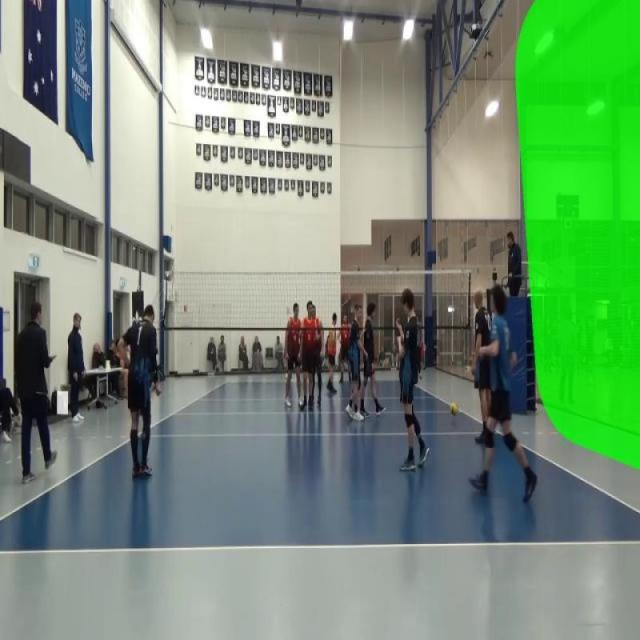volleyball: (449, 400, 460, 419)
